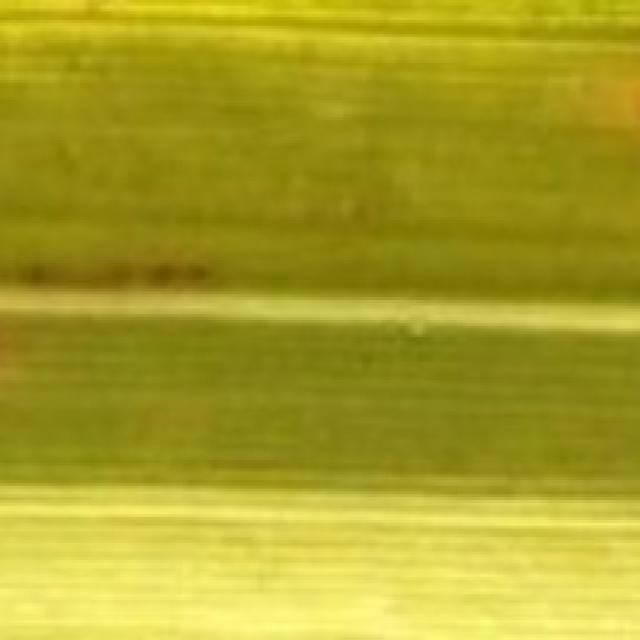Brown_Spot: (0, 257, 223, 302)
